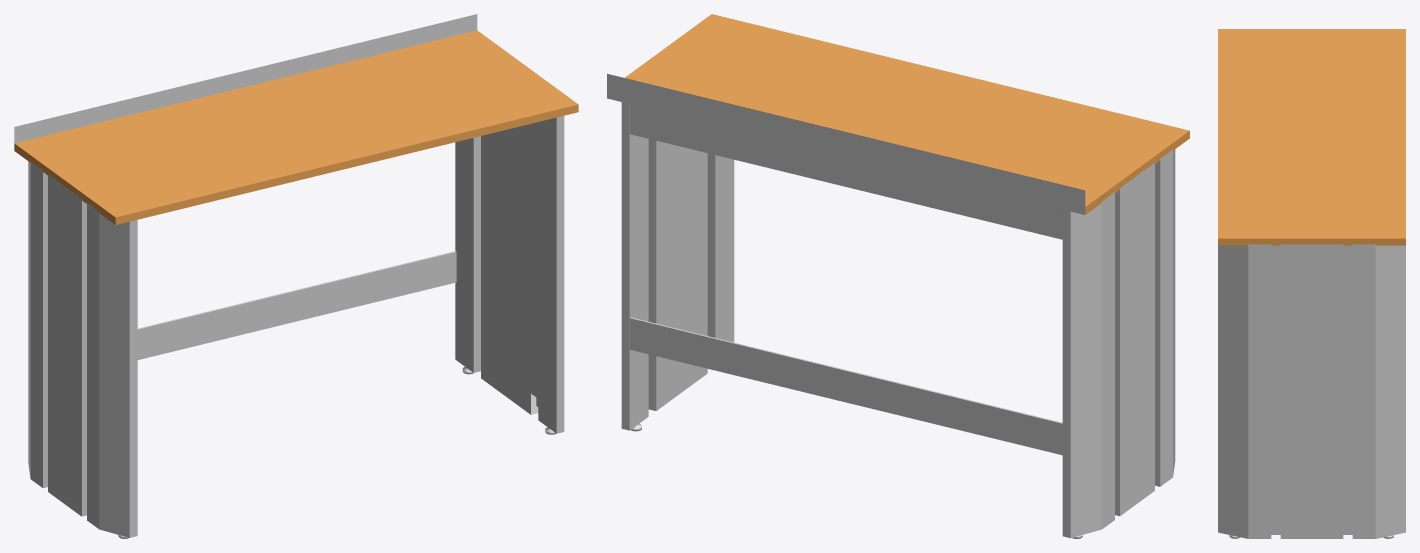
The model's file is Tool Chest Workbench.fbx.
3 views of the same model, side by side, from view 1: azimuth 30°, elevation 25°; view 2: azimuth 150°, elevation 25°; view 3: azimuth 270°, elevation 25° (orthographic). The views are drawn at different scales.
Parts seen in each view (by area): view 1: BenchLegs; view 2: BenchLegs; view 3: BenchLegs.
Boxes of the visible parts, x1=… form: BenchLegs: x1=14, y1=14, x2=578, y2=538; BenchLegs: x1=607, y1=14, x2=1189, y2=538; BenchLegs: x1=1218, y1=29, x2=1405, y2=538.
Bounding box in the file's own units: 161 × 115 × 60.99.
